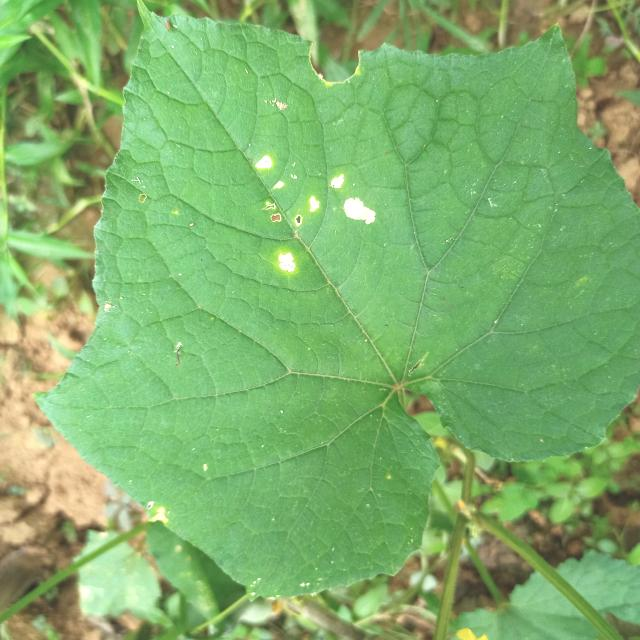disease_cucumber: (256, 151, 374, 273)
